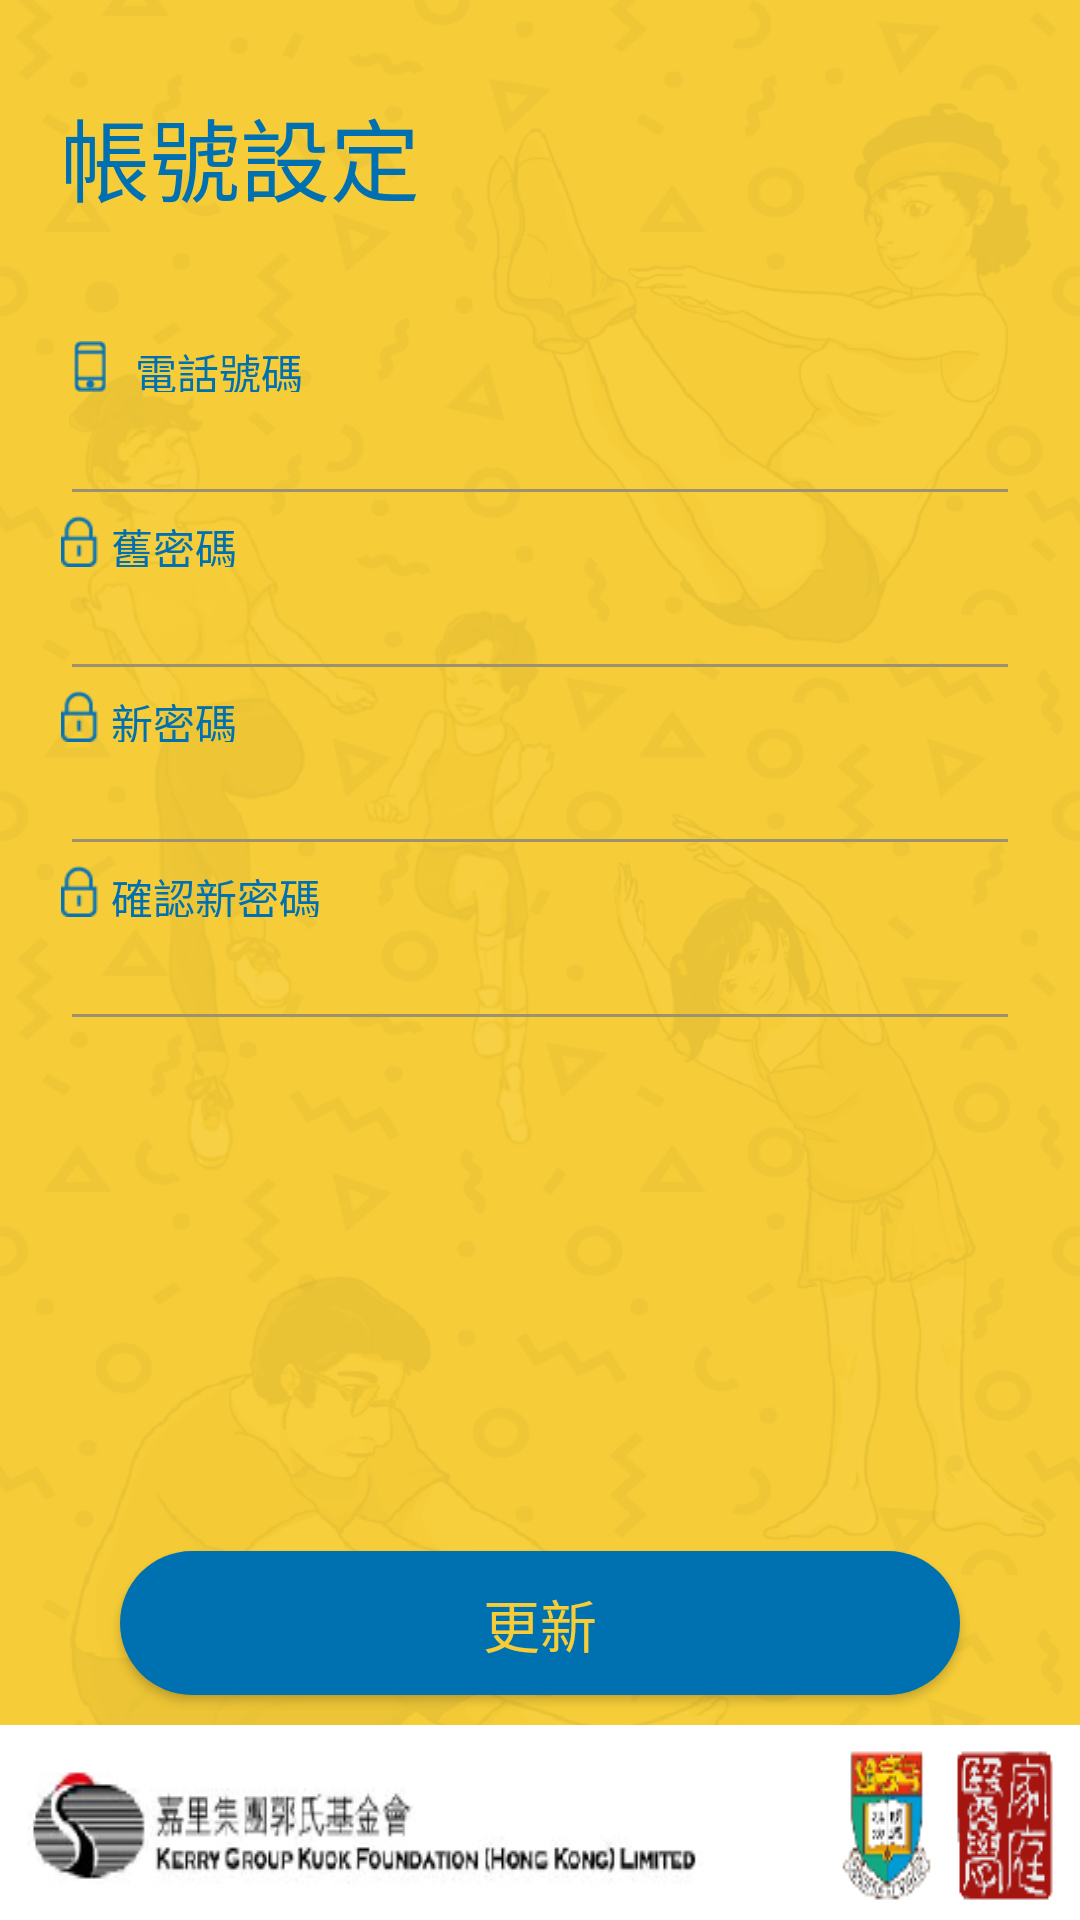

Where to tap for icons on this 1080x1920 app screen, as [x,y]:
login pw: [79,541], [79,716], [79,891]
login tel: [90,366]
